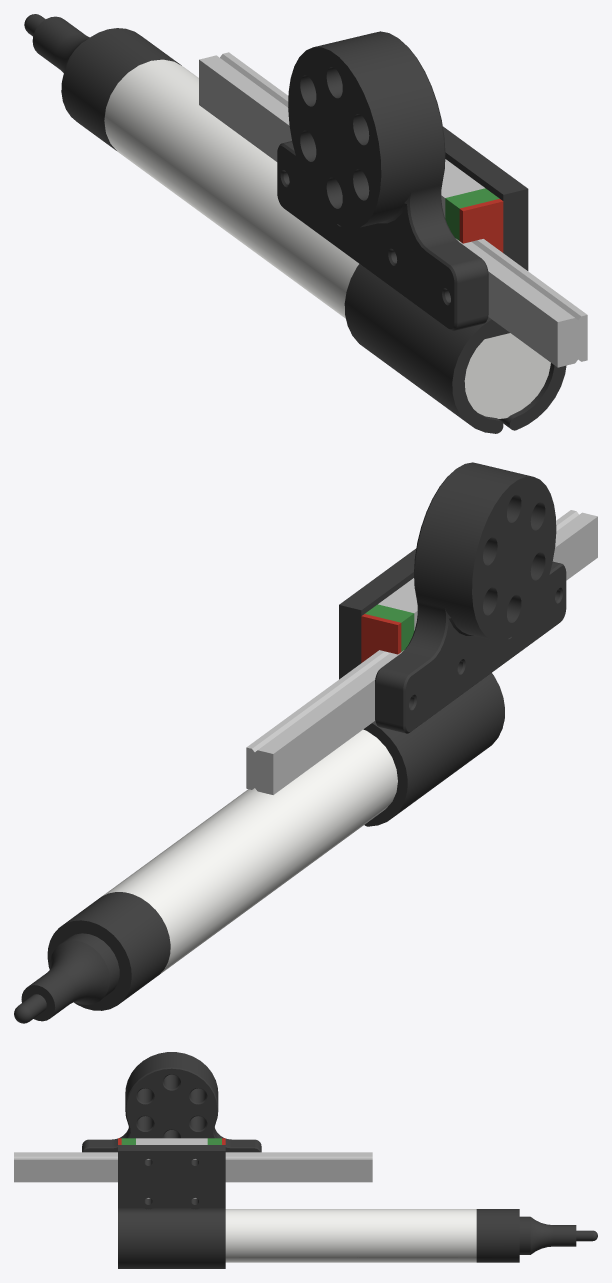
The model's file is PenHolder.obj.
The picture shows the model from 3 angles, top to bottom: view 1: azimuth 30°, elevation 25°; view 2: azimuth 150°, elevation 25°; view 3: azimuth 270°, elevation 25°; orthographic projection. The views are drawn at different scales.
Visible parts, largest first — view 1: PenHolder; view 2: PenHolder; view 3: PenHolder.
Part boxes in pixels (x1,y1,x2,y2): PenHolder: (24, 14, 587, 433); PenHolder: (14, 462, 597, 1023); PenHolder: (14, 1052, 597, 1268).
Size of the model in its own units: 0.0287 by 0.0567 by 0.1628.
